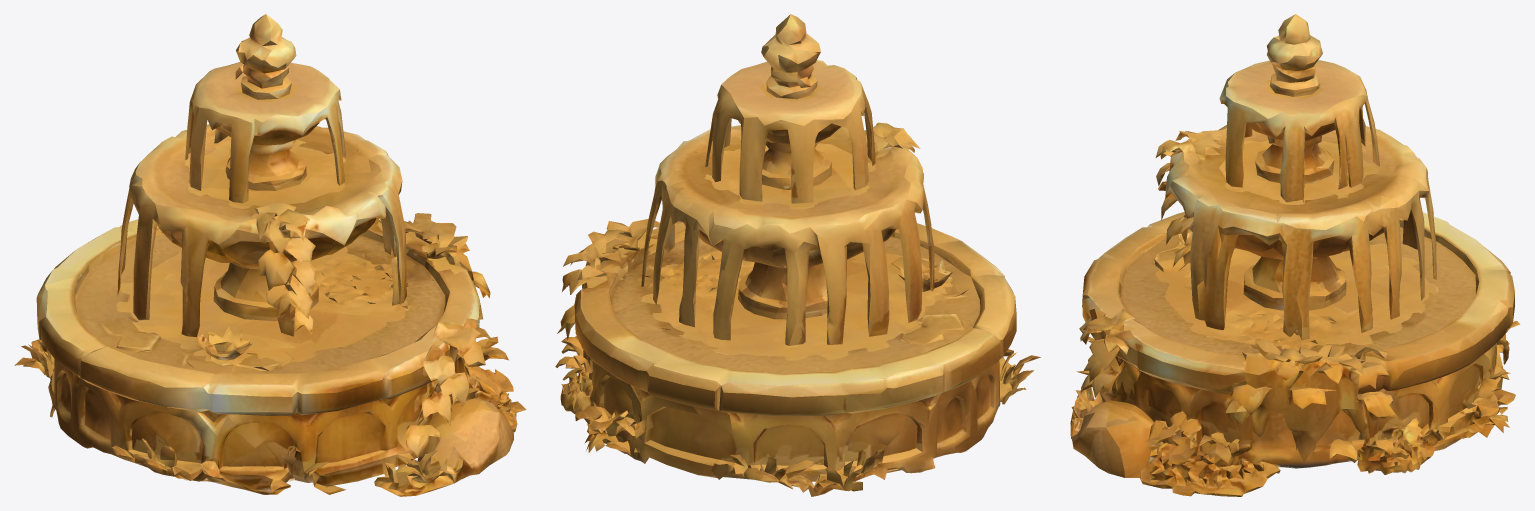
File: fountain-gold.glb
The picture shows the model from 3 angles, left to right: view 1: azimuth 30°, elevation 25°; view 2: azimuth 150°, elevation 25°; view 3: azimuth 270°, elevation 25°; orthographic projection. The views are drawn at different scales.
Parts seen in each view (by area): view 1: geometry_0; view 2: geometry_0; view 3: geometry_0.
Part boxes in pixels (x1=…): geometry_0: x1=14, y1=14, x2=526, y2=496; geometry_0: x1=555, y1=14, x2=1040, y2=496; geometry_0: x1=1070, y1=14, x2=1520, y2=496.
Bounding box in the file's own units: 1.55 × 1.5 × 1.55.
Materials: 1 (1 with a texture image).
